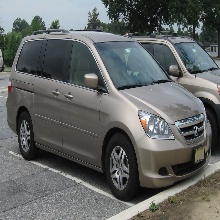no damage: (6, 30, 214, 199)
